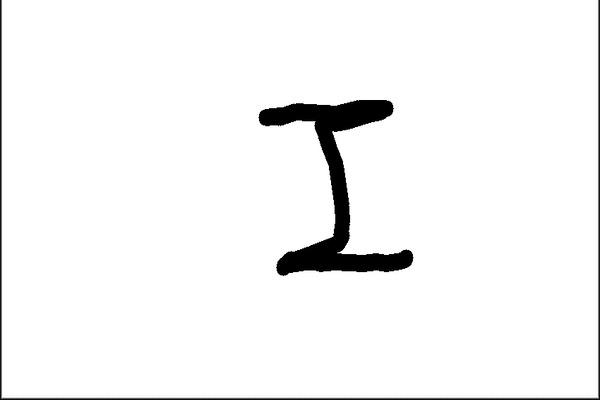i: (248, 100, 422, 280)
